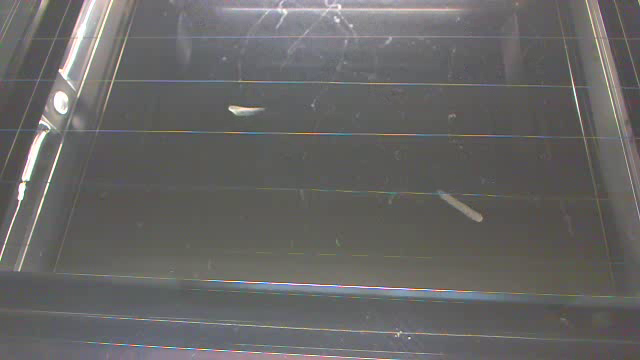Alfa: (430, 183, 486, 221), (219, 97, 269, 123)
